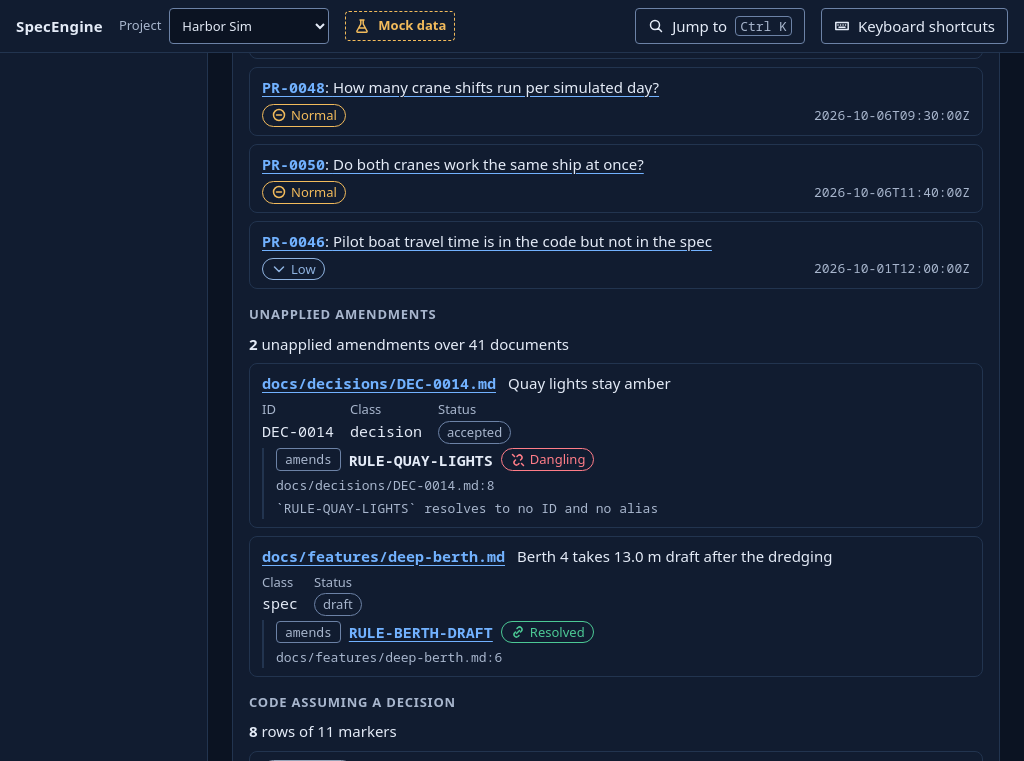
Test: Health over the mock › normal: docs/decisions/DEC-0014.md's path opens its document in the tree, a node of the mock's corpus
(page scrolled)
Click the link "docs/decisions/DEC-0014.md" at {"x": 379, "y": 384}, box [262, 372, 496, 396]
(page scrolled)
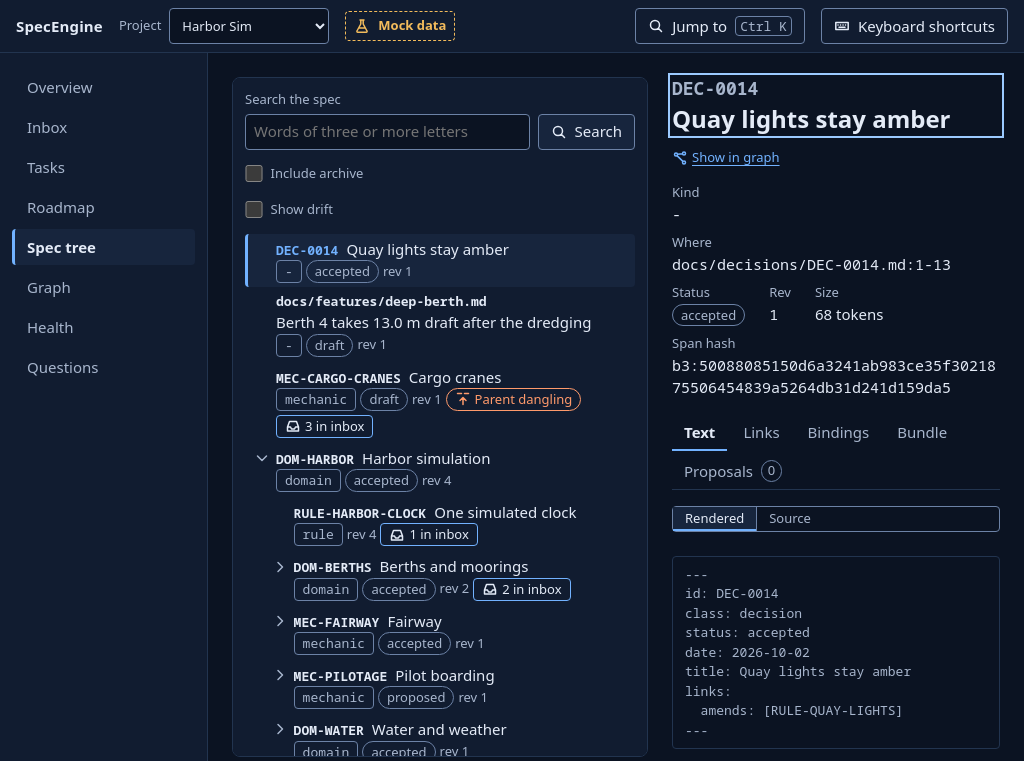
Check: the heading "DEC-0014 Quay lights stay amber" is shown, box [672, 76, 950, 134]
Check: the text "resolves to no ID and no alias" is gone
